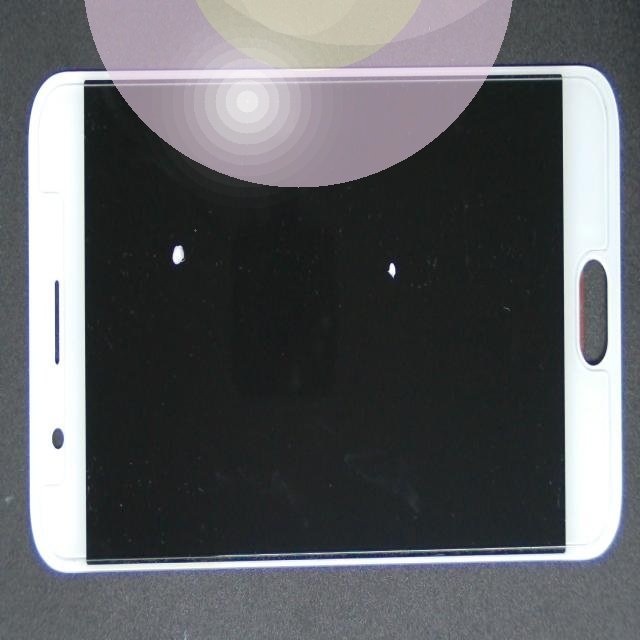stain: (216, 134, 599, 379), (104, 118, 261, 353)
